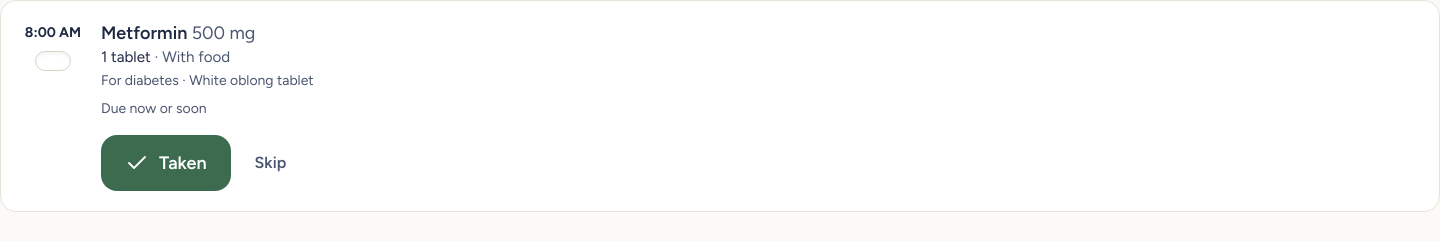
Test: DoseCard › asks for a reason before skipping
Click the button "Skip".
click(270, 162)  # box [239, 134, 302, 190]
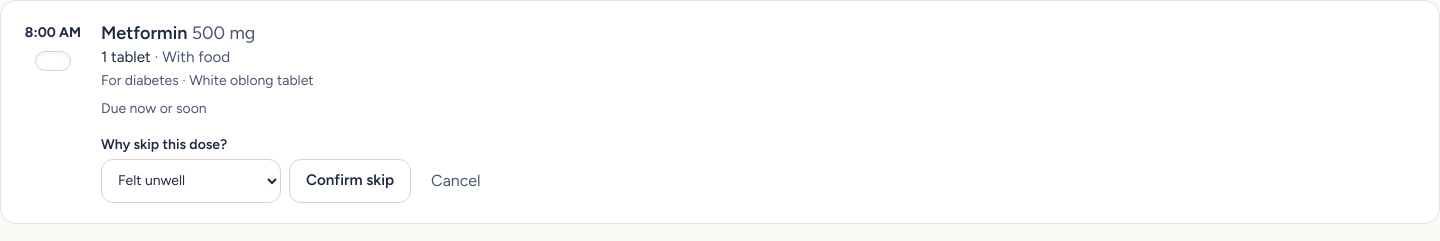
expect the dropdown labelled "Why skip this dose?" is shown: met, box [101, 158, 281, 202]
expect the button "Confirm skip" is shown: met, box [289, 158, 411, 202]
